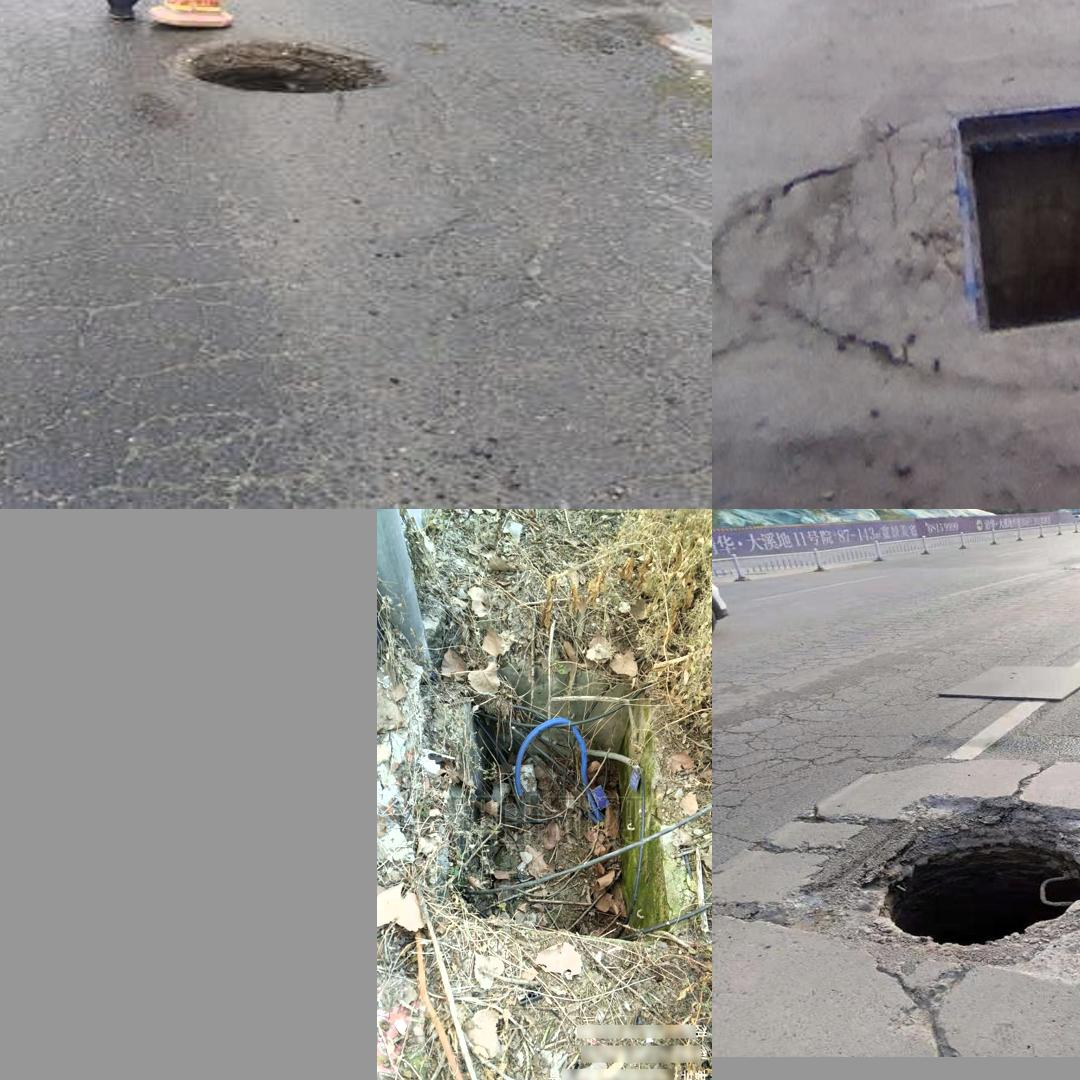lose: (421, 667, 671, 948), (791, 780, 1080, 1010), (957, 53, 1080, 335), (153, 24, 430, 105)
